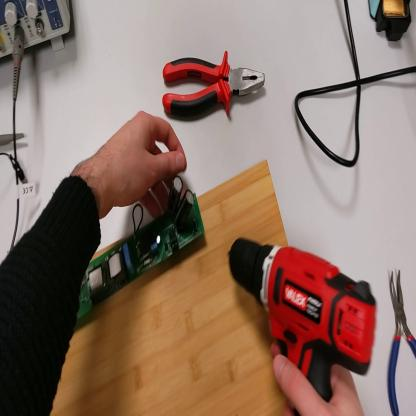electric screwdriver: (229, 236, 378, 416)
hand: (94, 112, 188, 220), (273, 352, 365, 416)
high voltage board: (78, 175, 206, 318)
oscilloscope: (2, 1, 76, 64)
oscilloscope probe tip: (2, 131, 28, 148)
pliers: (163, 52, 267, 122), (388, 270, 416, 414)
welder base: (367, 3, 413, 46)
working area: (52, 151, 292, 415)
